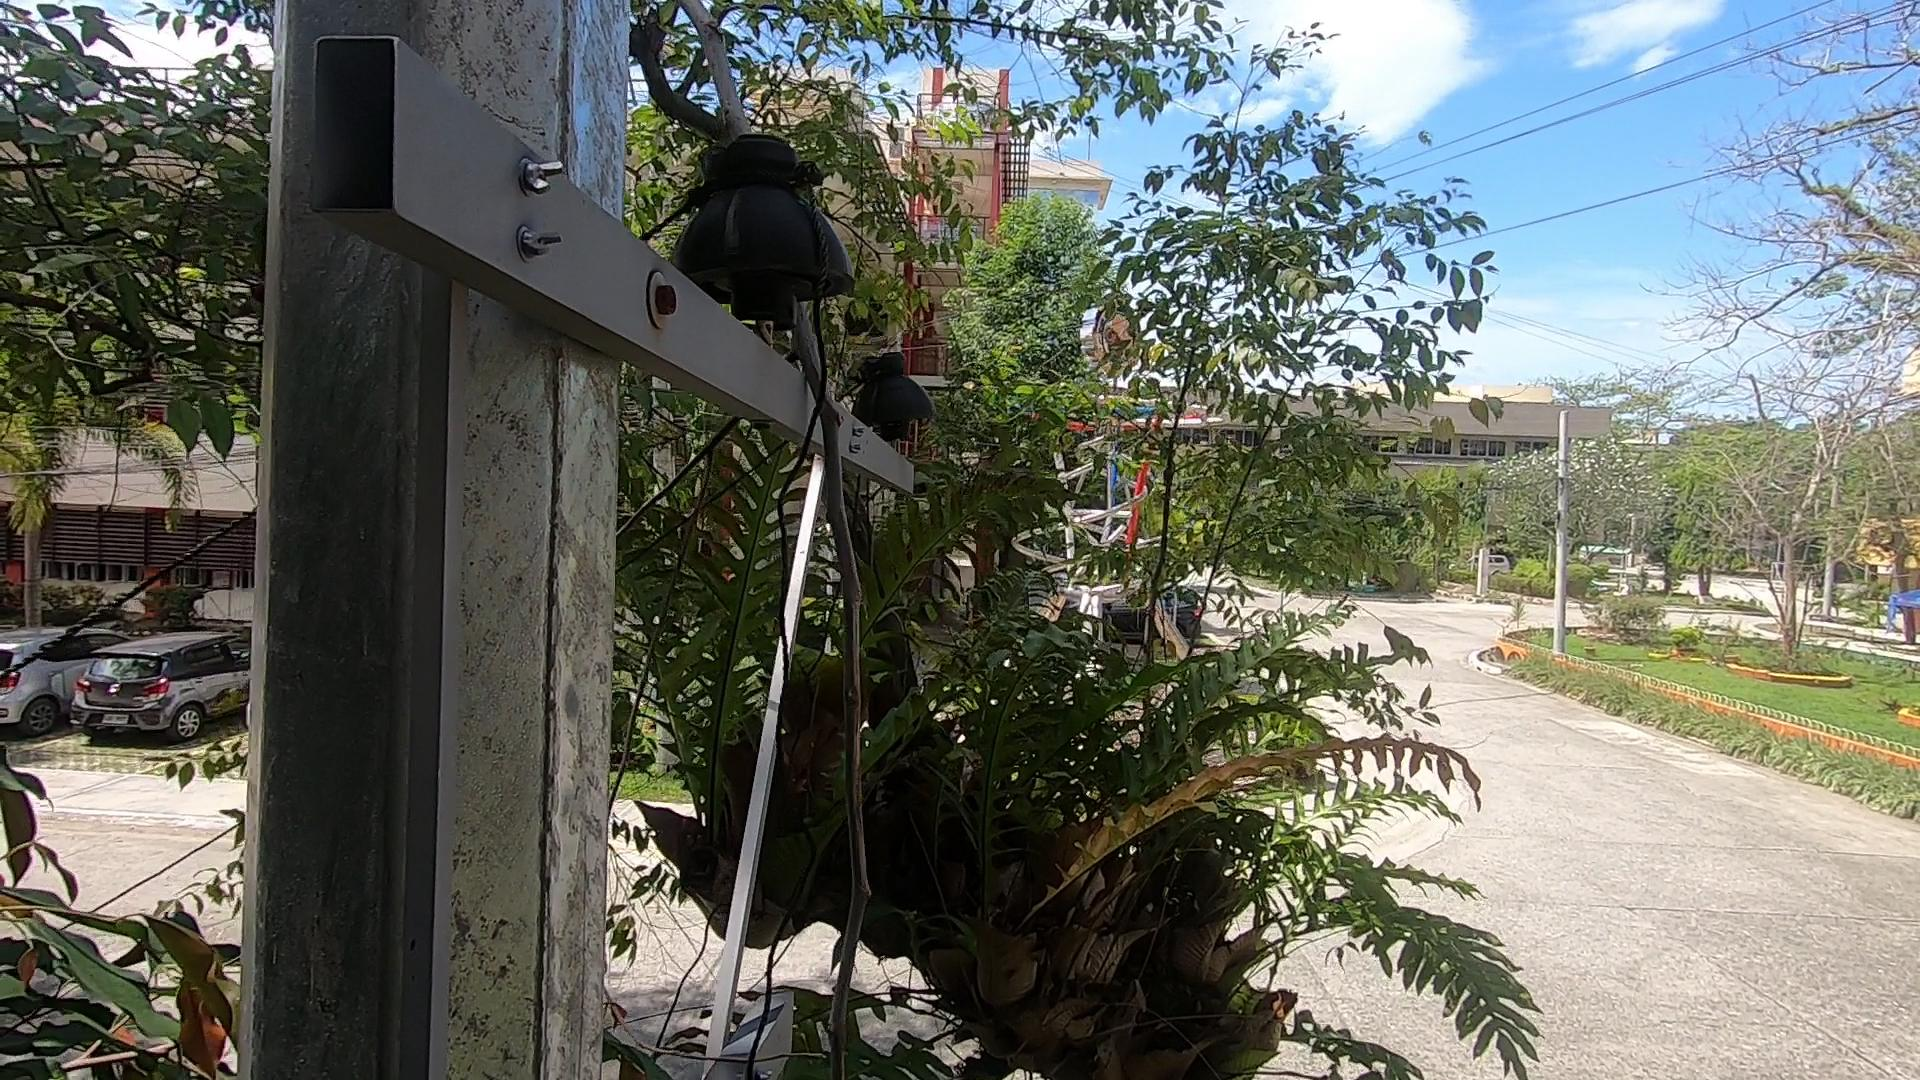tree branch: (651, 1, 975, 1059)
